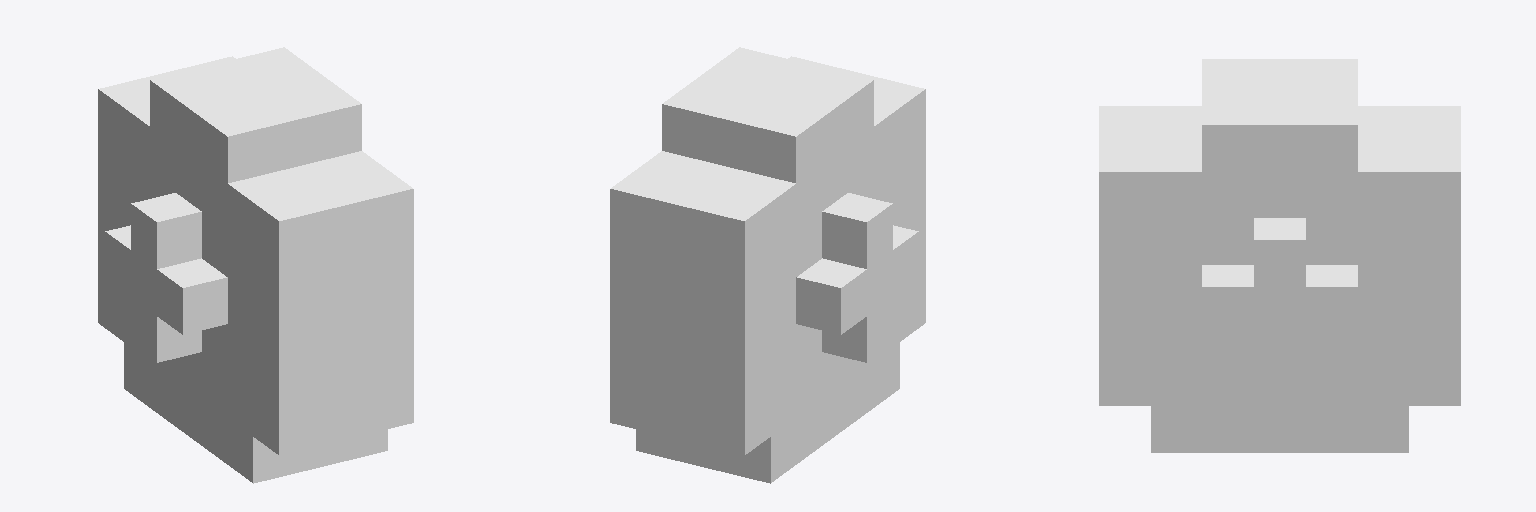
Rendered from kolo.obj.
The picture shows the model from 3 angles: view 1: azimuth 30°, elevation 25°; view 2: azimuth 150°, elevation 25°; view 3: azimuth 270°, elevation 25°; orthographic projection.
Visible parts, largest first — view 1: koło do voxela; view 2: koło do voxela; view 3: koło do voxela.
Boxes of the visible parts, <box> form: koło do voxela: <box>98,47,413,483</box>; koło do voxela: <box>610,47,925,483</box>; koło do voxela: <box>1099,59,1460,452</box>.
Size of the model in its own units: 0.5 by 0.7 by 0.7.